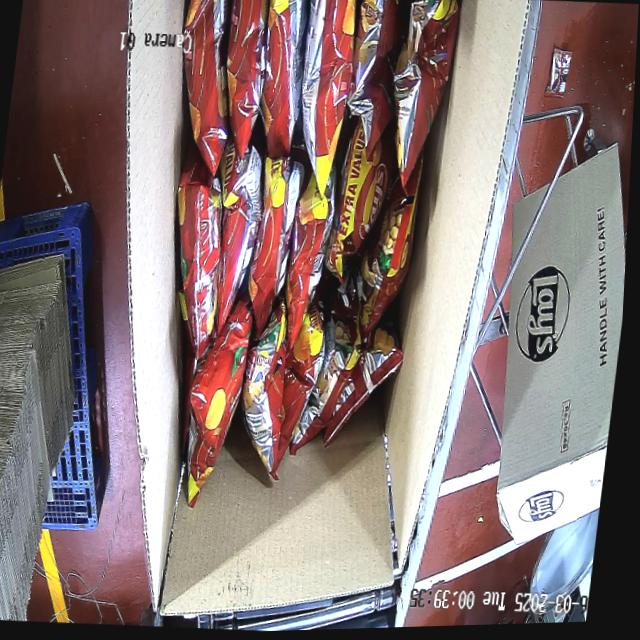MASALA: (124, 0, 461, 522)
